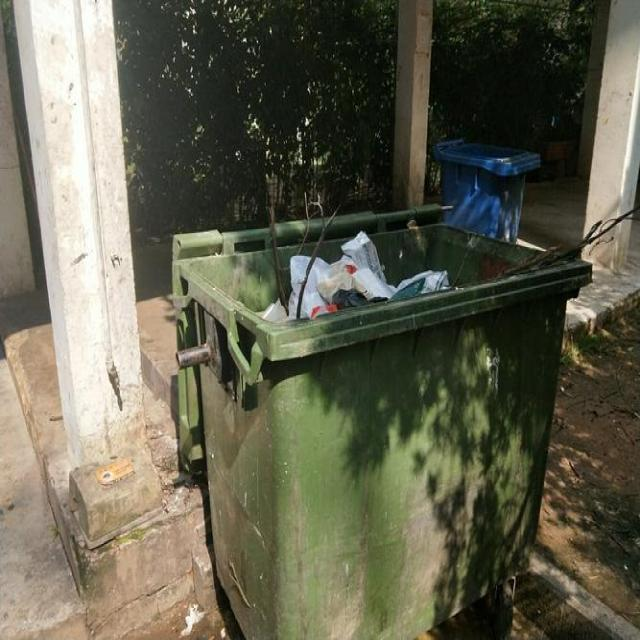garbage_bin: (434, 137, 539, 239)
overflow: (171, 205, 591, 639)
